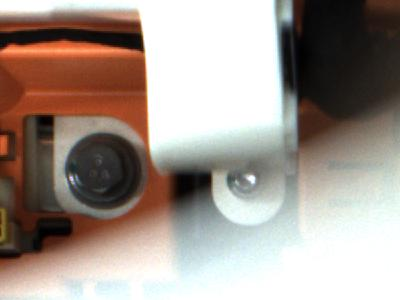nut_b: (62, 134, 142, 210)
